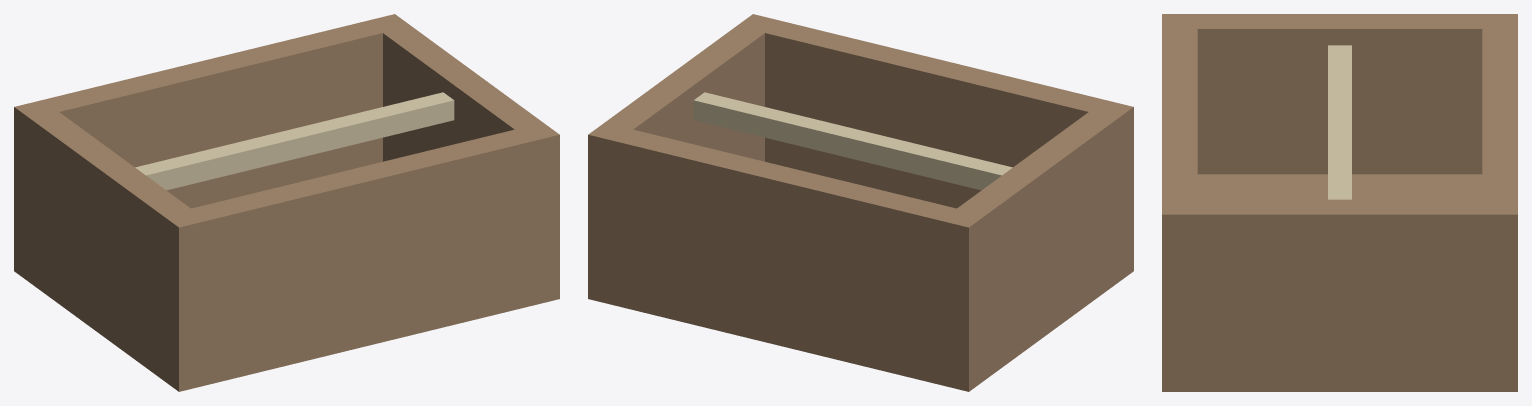
Rendered from ilu_gaveta_luz.glb.
3 renders of one model, left to right at view 1: azimuth 30°, elevation 25°; view 2: azimuth 150°, elevation 25°; view 3: azimuth 270°, elevation 25°, orthographic. The views are drawn at different scales.
Parts seen in each view (by area): view 1: ILU_Gaveta_Luz_v01; view 2: ILU_Gaveta_Luz_v01; view 3: ILU_Gaveta_Luz_v01.
Part boxes in pixels (x1,y1,x2,y2): ILU_Gaveta_Luz_v01: [14, 14, 559, 391]; ILU_Gaveta_Luz_v01: [588, 14, 1133, 391]; ILU_Gaveta_Luz_v01: [1162, 14, 1517, 391].
Bounding box in the file's own units: 0.4 × 0.165 × 0.3.
